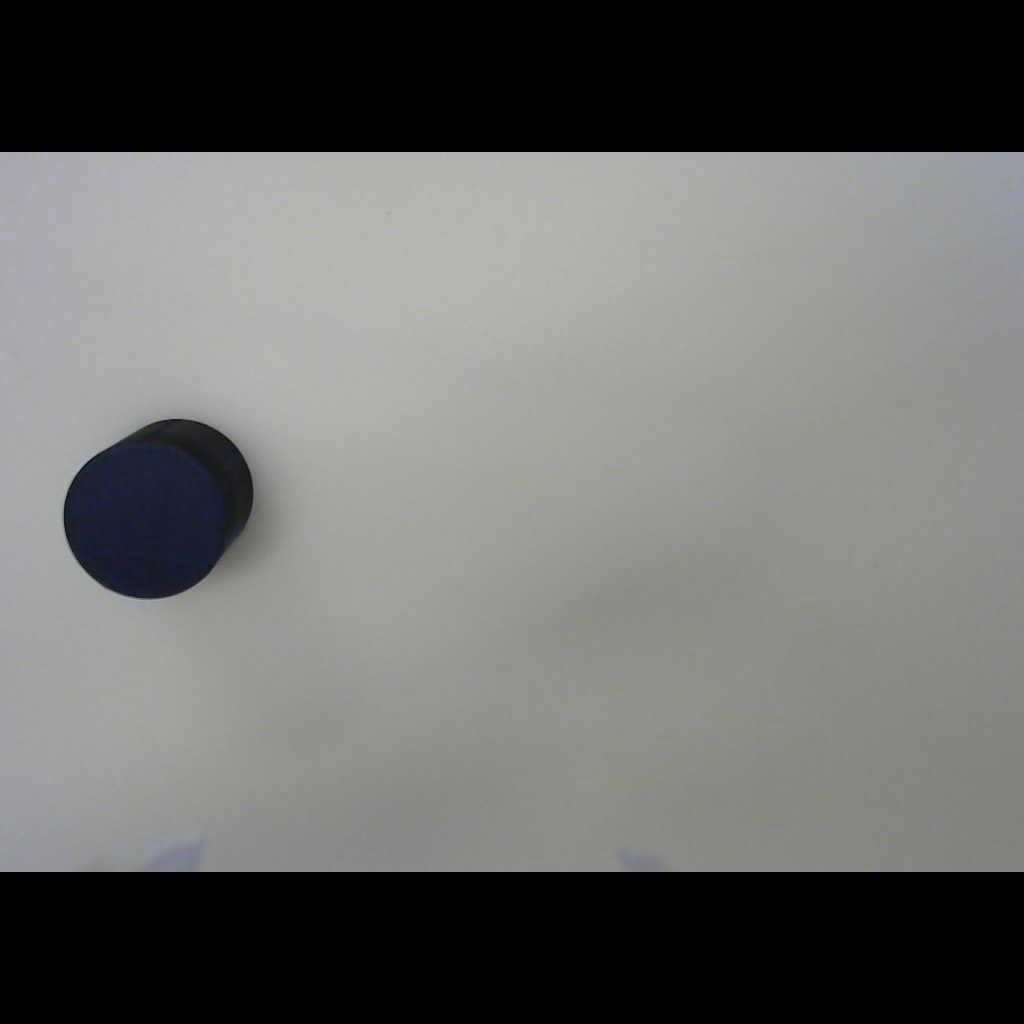circle: (52, 407, 264, 609)
